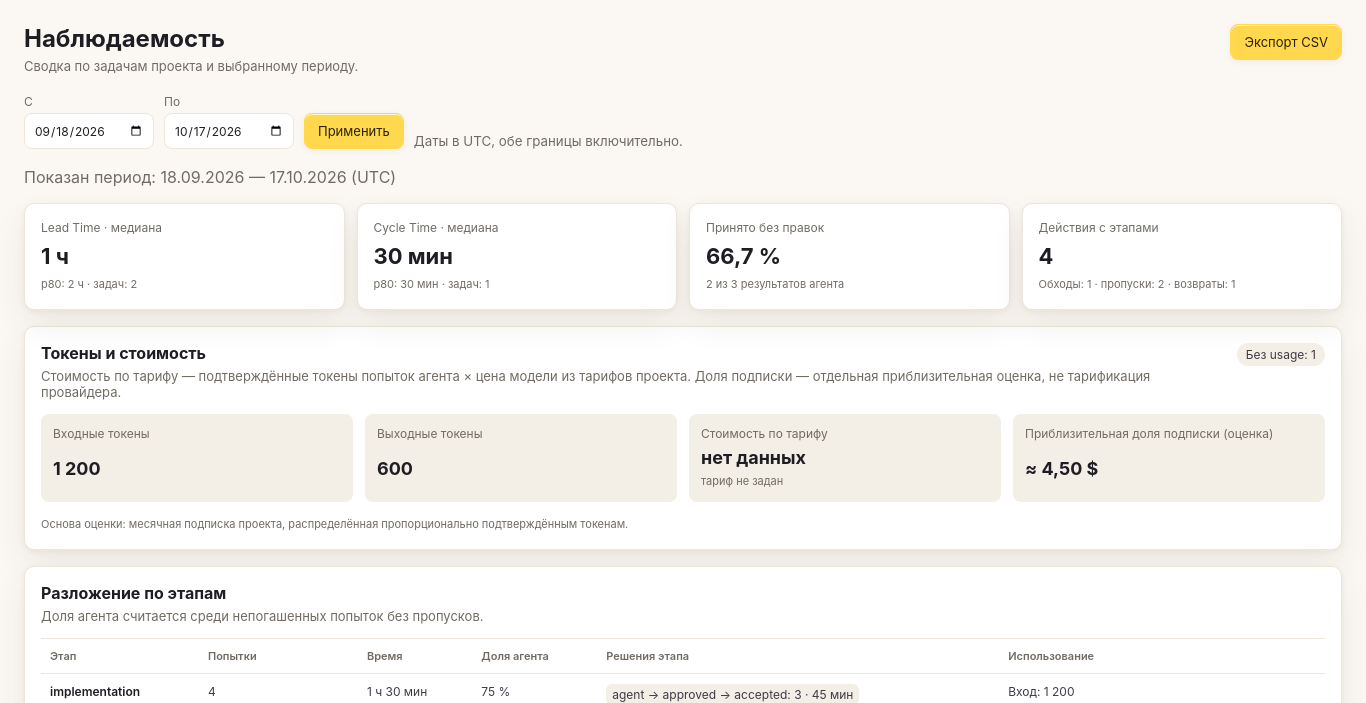
Observability › rejects an inverted period without making another request
This screenshot has width=1366, height=703.
Check: the heading "Разложение по этапам" is shown, box [41,583,226,603]
Type "2026-10-31" into the date field labelled "С".
click(89, 131); type("2026-10-31")  # box [24,113,154,149]
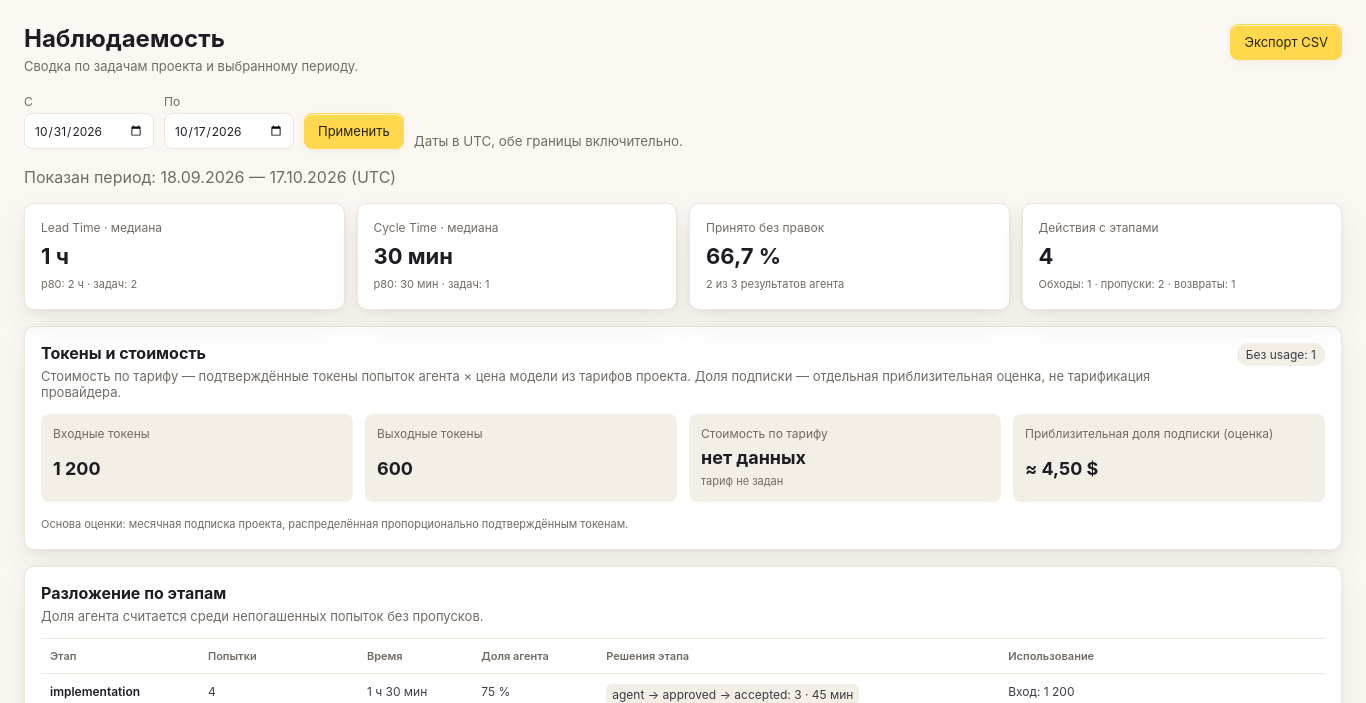
Type "2026-10-01" into the date field labelled "По".
click(229, 131); type("2026-10-01")  # box [164,113,294,149]
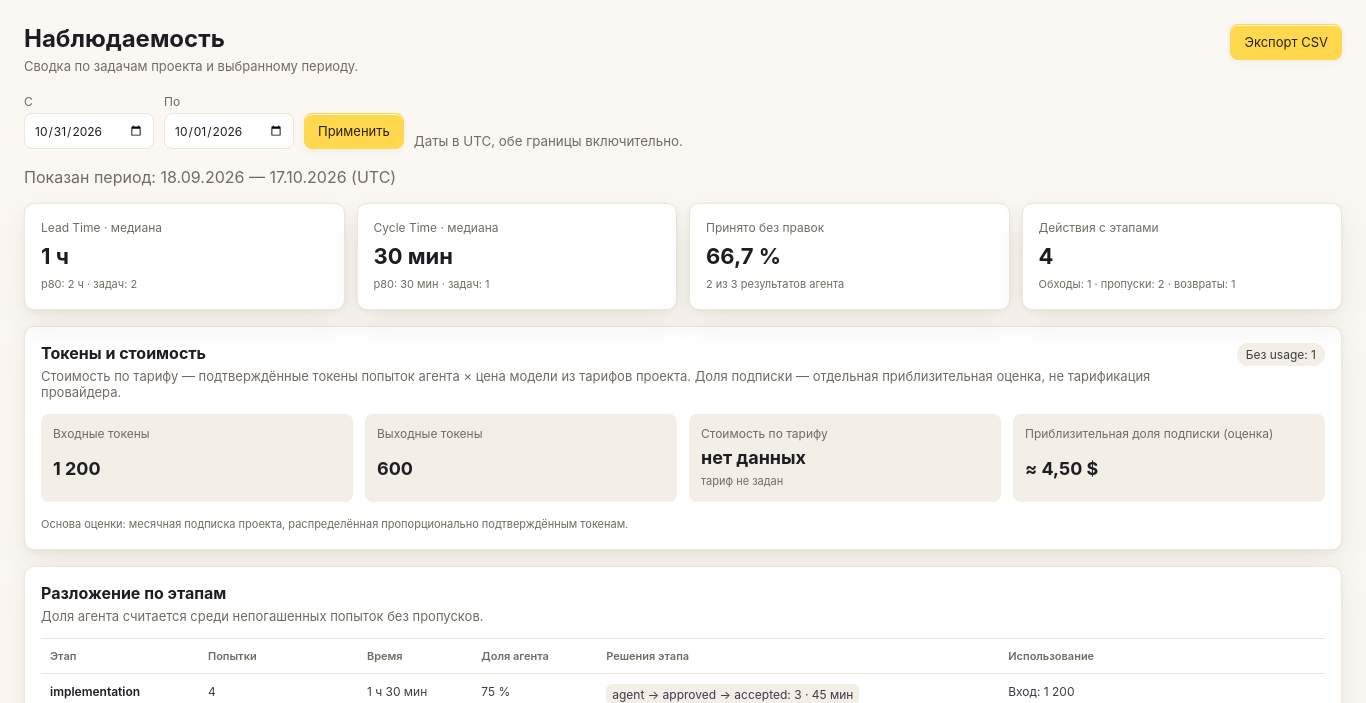
Click the button "Применить".
click(354, 131)  # box [304,113,404,149]
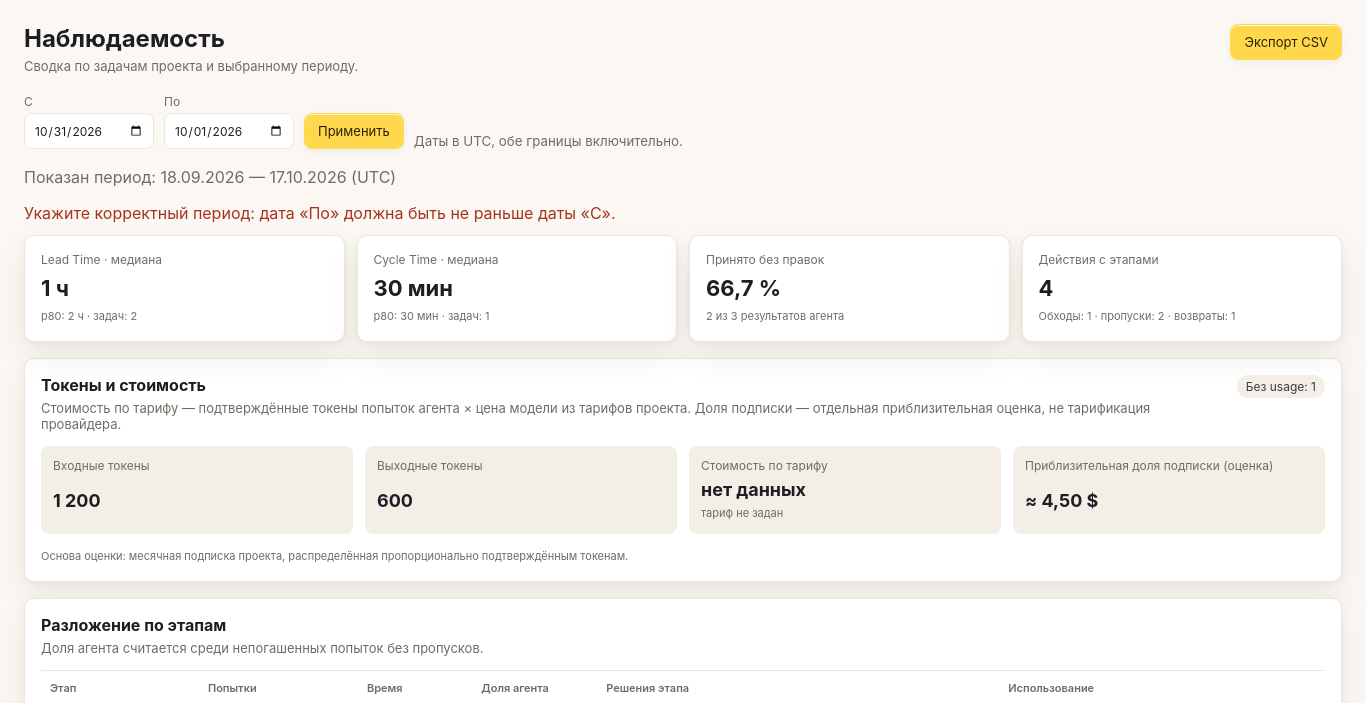
Check: the message shows "дата «По» должна быть не раньше", box [24,203,616,223]
